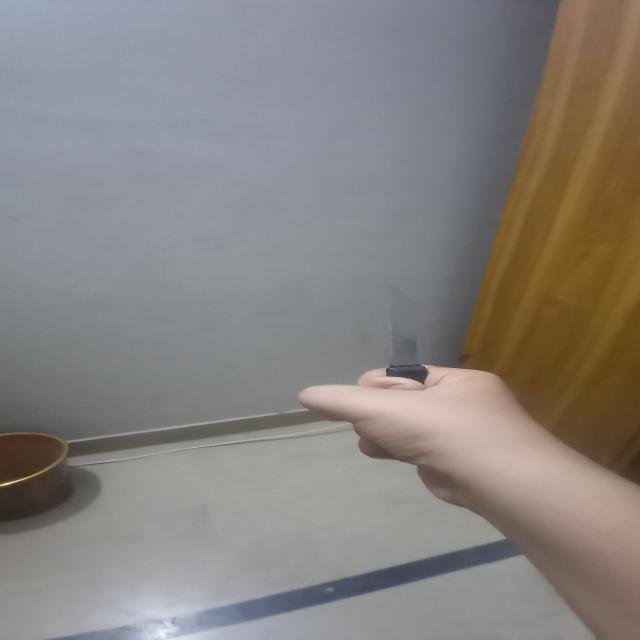Knife: (374, 271, 434, 409)
